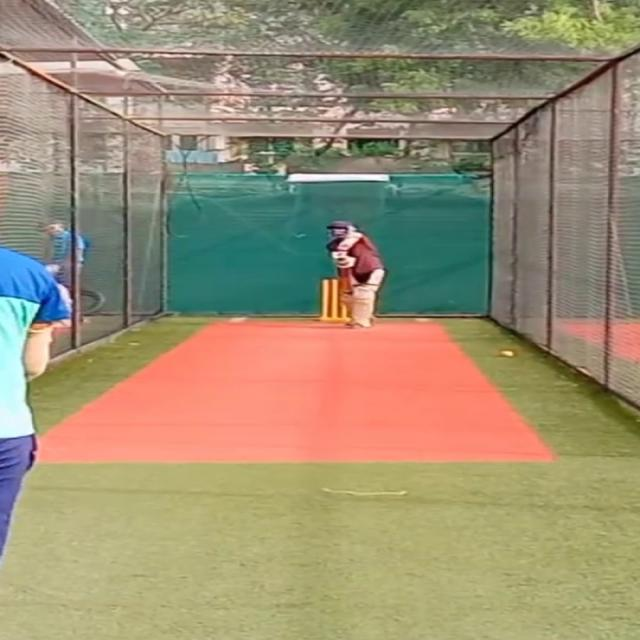ball: (490, 345, 522, 360)
stump: (317, 278, 340, 322)
